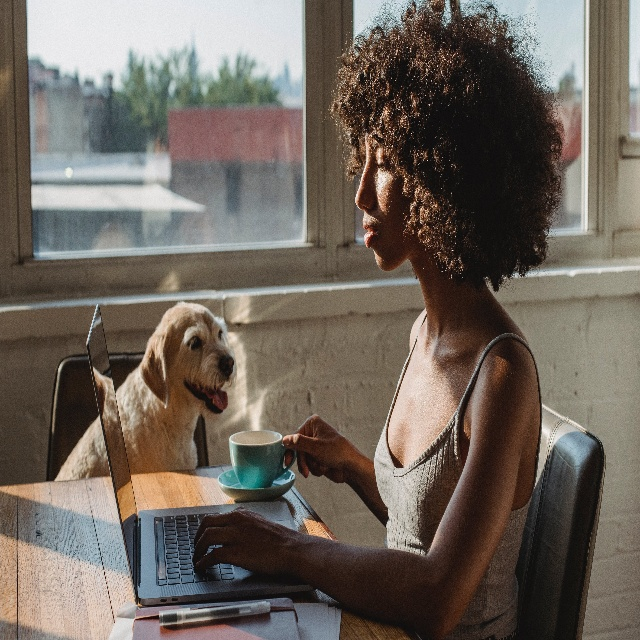Sin_guantes: (191, 503, 294, 578), (281, 410, 346, 486)
